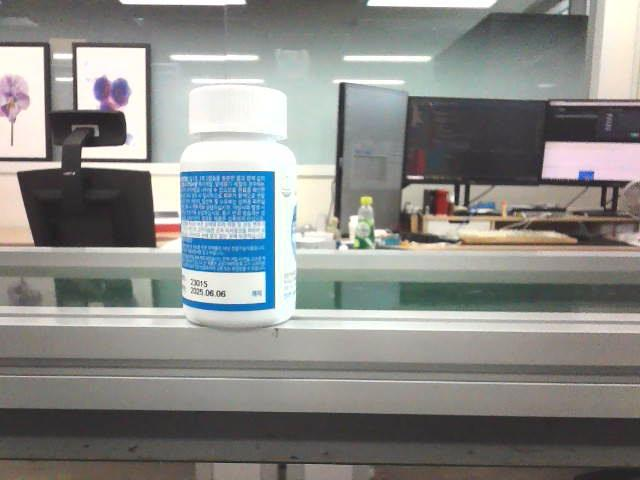labeled: (172, 79, 303, 334)
